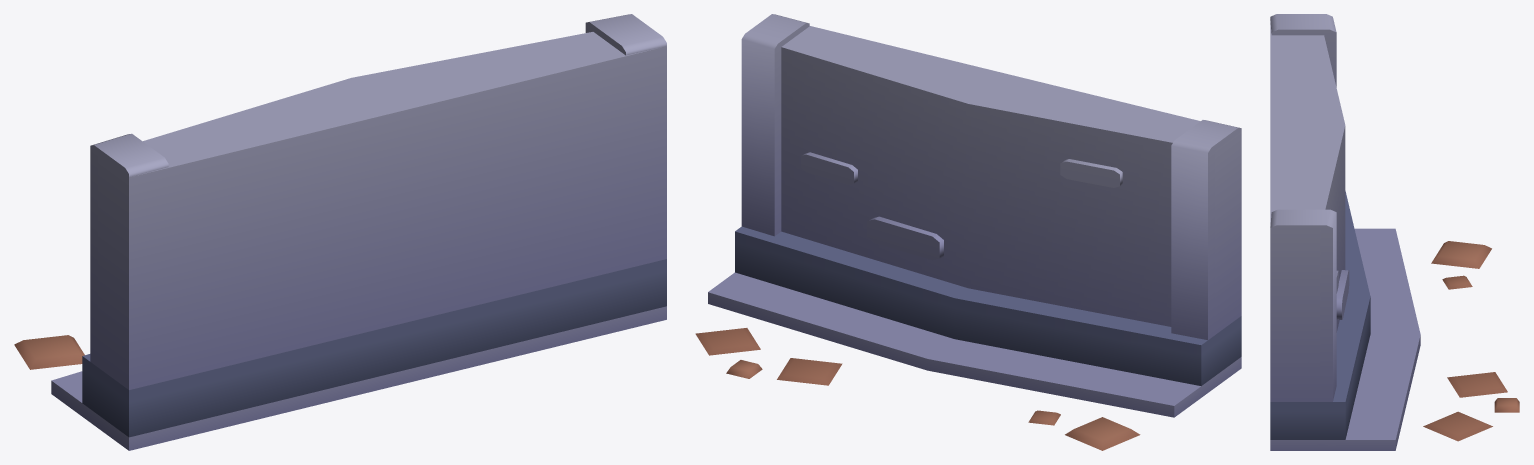
The model's file is template_wall__3_0_lev1.glb.
3 views of the same model, side by side, from view 1: azimuth 30°, elevation 25°; view 2: azimuth 150°, elevation 25°; view 3: azimuth 270°, elevation 25° (orthographic). The views are drawn at different scales.
Parts seen in each view (by area): view 1: template_wall__3_0_lev1; view 2: template_wall__3_0_lev1; view 3: template_wall__3_0_lev1.
Boxes of the visible parts, bbox=[...] form: template_wall__3_0_lev1: bbox=[14, 14, 666, 450]; template_wall__3_0_lev1: bbox=[695, 14, 1241, 450]; template_wall__3_0_lev1: bbox=[1270, 14, 1519, 450].
Size of the model in its own units: 3.74 by 1.86 by 1.86.
1 material, 1 textured.
